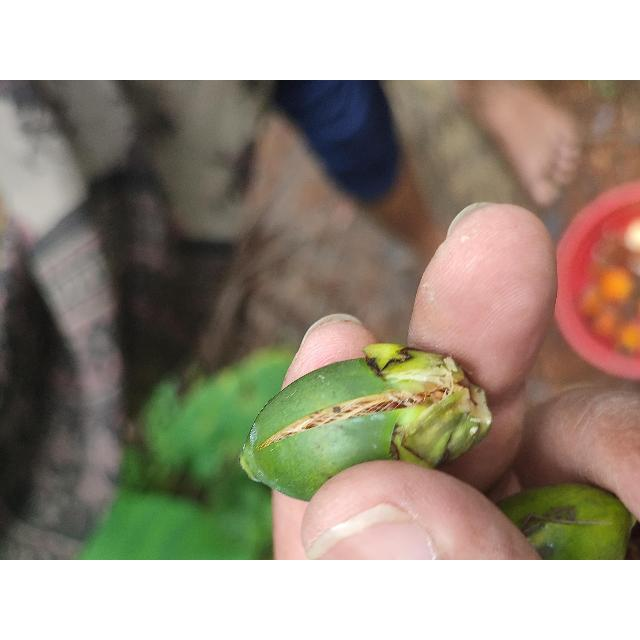damaged: (238, 346, 492, 504)
